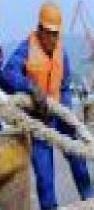hard-hat: (37, 3, 61, 31)
vest: (0, 0, 30, 114)
